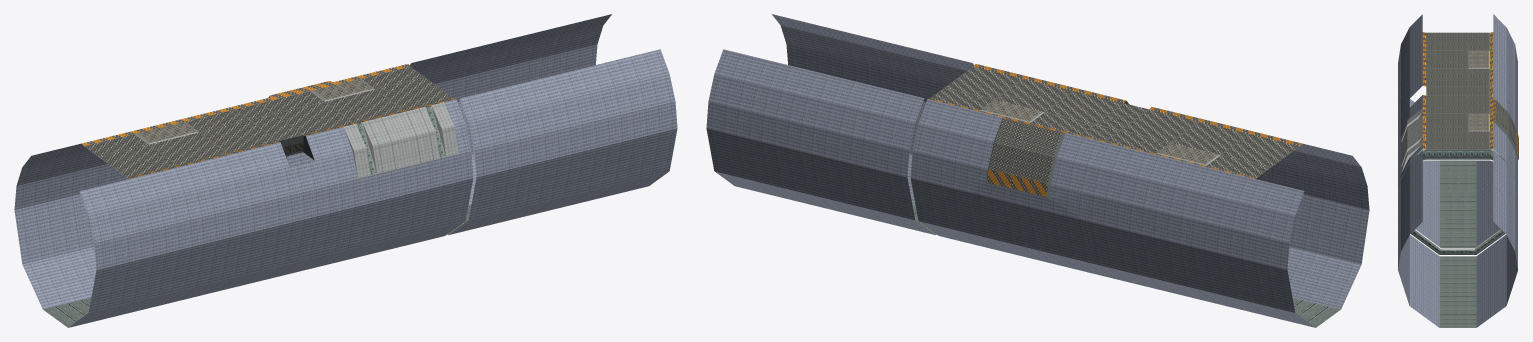
3 renders of one model, left to right at view 1: azimuth 30°, elevation 25°; view 2: azimuth 150°, elevation 25°; view 3: azimuth 270°, elevation 25°, orthographic. The views are drawn at different scales.
Visible parts, largest first — view 1: Geom1Shape2_face00, Geom1Shape1_face00, Geom1Shape0_face00, Geom1Shape5_face00, Geom1Shape3_face00, Geom1Shape4_face01; view 2: Geom1Shape2_face00, Geom1Shape1_face00, Geom1Shape0_face00, Geom1Shape5_face00, Geom1Shape3_face00, Geom1Shape0_face02; view 3: Geom1Shape1_face00, Geom1Shape0_face00, Geom1Shape2_face00, Geom1Shape5_face00, Geom1Shape3_face00, Geom1Shape6_face02, Geom1Shape4_face01, Geom1Shape6_face00, Geom1Shape4_face00.
Boxes of the visible parts, box(x1,y1,x2,y2) form: Geom1Shape2_face00: box(14, 142, 297, 327); Geom1Shape1_face00: box(409, 14, 677, 235); Geom1Shape0_face00: box(268, 81, 473, 278); Geom1Shape5_face00: box(232, 64, 455, 160); Geom1Shape3_face00: box(82, 107, 279, 178); Geom1Shape4_face01: box(344, 102, 458, 178); Geom1Shape2_face00: box(1086, 142, 1369, 327); Geom1Shape1_face00: box(706, 14, 974, 235); Geom1Shape0_face00: box(910, 99, 1114, 278); Geom1Shape5_face00: box(928, 64, 1148, 141); Geom1Shape3_face00: box(1104, 107, 1301, 178); Geom1Shape0_face02: box(973, 166, 1088, 220); Geom1Shape1_face00: box(1398, 150, 1517, 327); Geom1Shape0_face00: box(1398, 86, 1518, 248); Geom1Shape2_face00: box(1398, 14, 1517, 192); Geom1Shape5_face00: box(1422, 86, 1493, 149); Geom1Shape3_face00: box(1422, 32, 1493, 86); Geom1Shape6_face02: box(1398, 149, 1517, 254); Geom1Shape4_face01: box(1401, 108, 1422, 173); Geom1Shape6_face00: box(1415, 159, 1500, 249); Geom1Shape4_face00: box(1401, 113, 1421, 173).
Bounding box in the file's own units: 46248 × 11100 × 11384.
